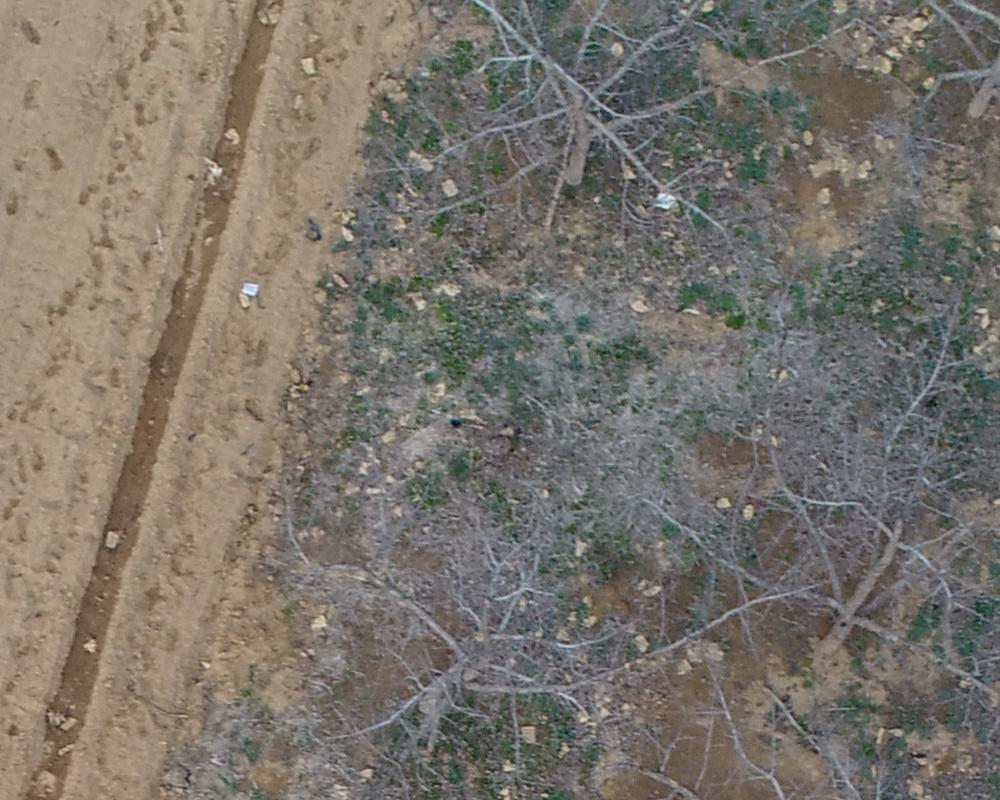apple: (676, 352, 990, 728), (294, 503, 617, 790), (428, 10, 809, 242), (900, 10, 990, 191)
